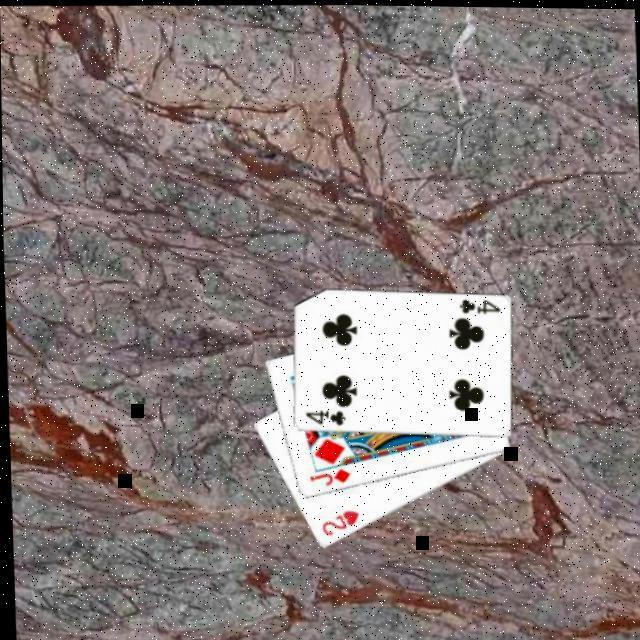2H: (313, 508, 358, 541)
4C: (453, 295, 499, 318), (298, 407, 343, 429)
JD: (302, 465, 349, 490)
